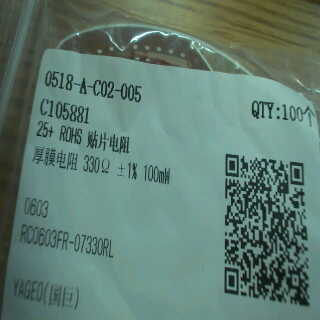330R: (82, 153, 114, 177)
